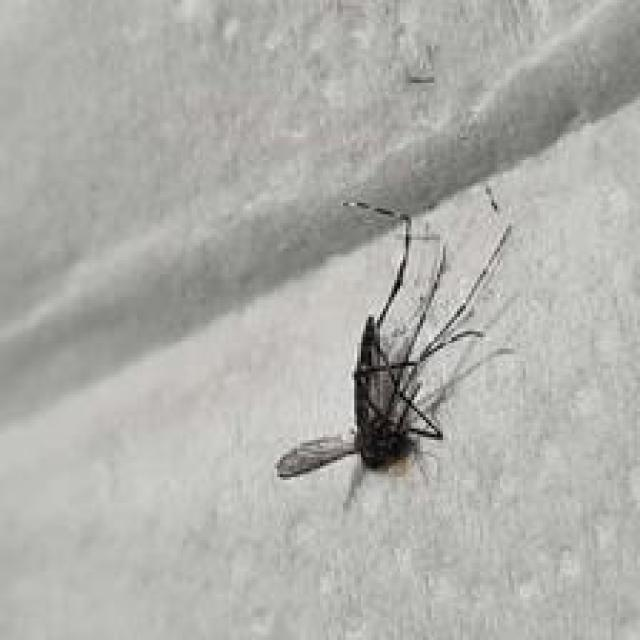Aedes albopictus: (273, 187, 518, 510)
